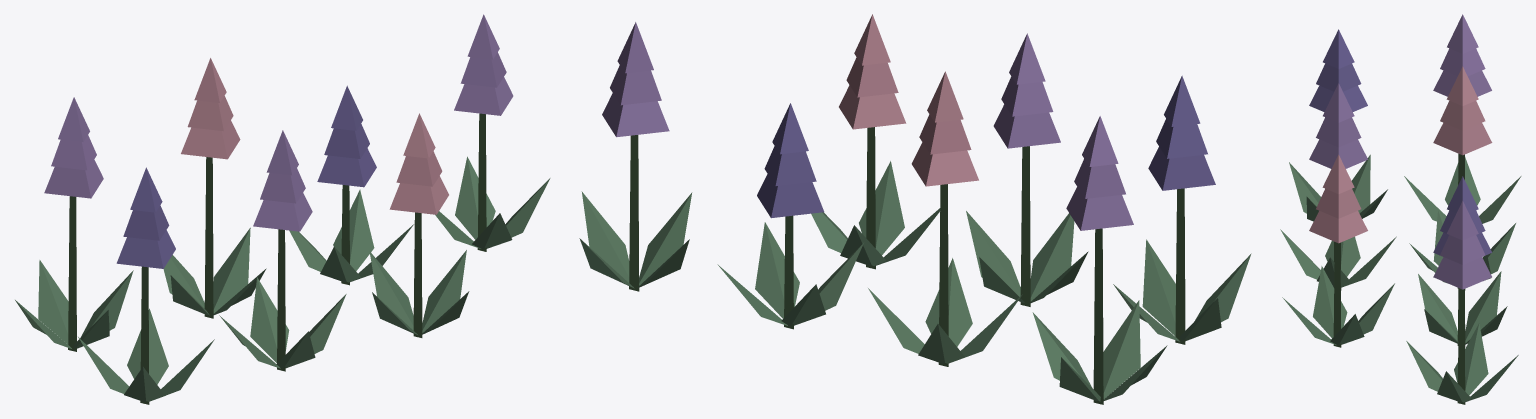
The model's file is lupines.glb.
3 renders of one model, left to right at view 1: azimuth 30°, elevation 25°; view 2: azimuth 150°, elevation 25°; view 3: azimuth 270°, elevation 25°, orthographic. The views are drawn at different scales.
Parts seen in each view (by area): view 1: lupines; view 2: lupines; view 3: lupines.
Boxes of the visible parts, box(x1,y1,x2,y2) form: lupines: box(15, 14, 550, 404); lupines: box(579, 14, 1251, 404); lupines: box(1280, 14, 1521, 404).
Bounding box in the file's own units: 1.85 × 0.8703 × 0.8579.
